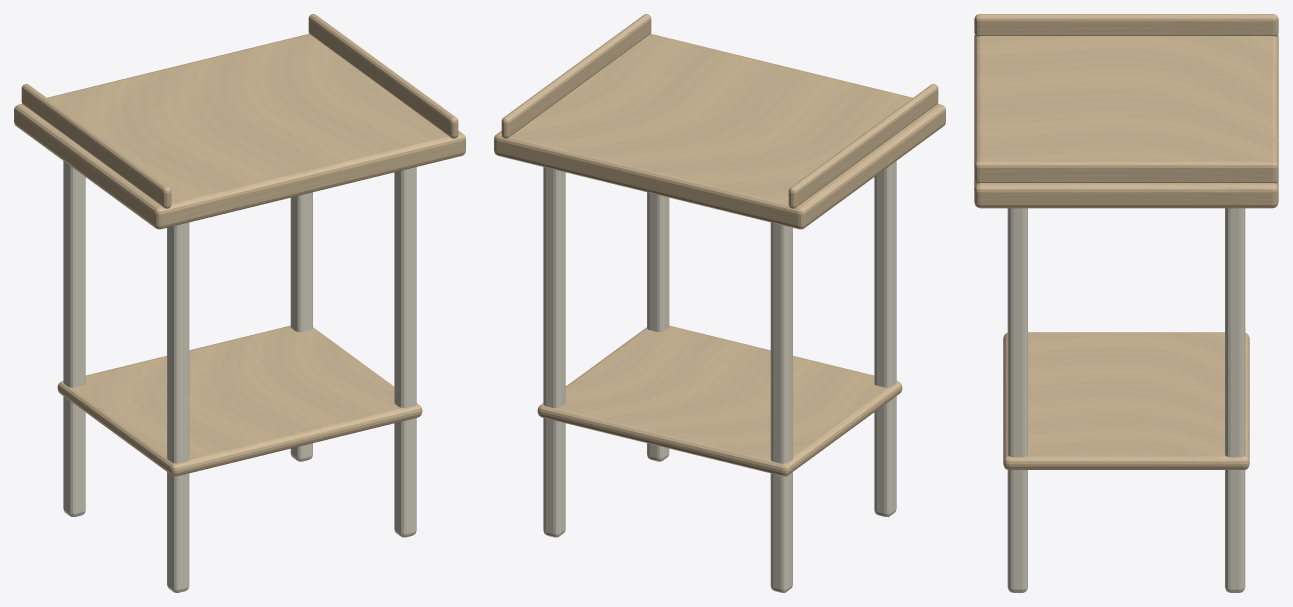
The model's file is guestbook-stand-2.glb.
3 views of the same model, side by side, from view 1: azimuth 30°, elevation 25°; view 2: azimuth 150°, elevation 25°; view 3: azimuth 270°, elevation 25° (orthographic). The views are drawn at different scales.
Visible parts, largest first — view 1: Tray top, Lower shelf, Leg, Leg.002, Leg.001, Tray lip.001, Tray lip, Leg.003; view 2: Tray top, Lower shelf, Leg.001, Leg.003, Leg, Tray lip.001, Tray lip, Leg.002; view 3: Tray top, Lower shelf, Leg.002, Leg.003, Tray lip, Tray lip.001.
Part boxes in pixels (x1,y1,x2,y2): Tray top: (14,34,465,229); Lower shelf: (57,325,422,476); Leg: (167,222,189,592); Leg.002: (394,167,416,537); Leg.001: (63,161,85,516); Tray lip.001: (308,14,458,138); Tray lip: (21,84,171,208); Leg.003: (290,192,312,461); Tray top: (494,34,945,229); Lower shelf: (537,325,902,476); Leg.001: (770,222,792,592); Leg.003: (543,167,565,537); Leg: (874,161,896,516); Tray lip.001: (501,14,651,138); Tray lip: (788,84,938,208); Leg.002: (647,192,669,461); Tray top: (974,34,1278,208); Lower shelf: (1003,332,1249,469); Leg.002: (1007,208,1027,592); Leg.003: (1225,208,1245,592); Tray lip: (974,14,1278,36); Tray lip.001: (974,161,1278,183).
Size of the model in its own units: 0.52 by 0.6775 by 0.42.
Materials: 2 (1 with a texture image).
